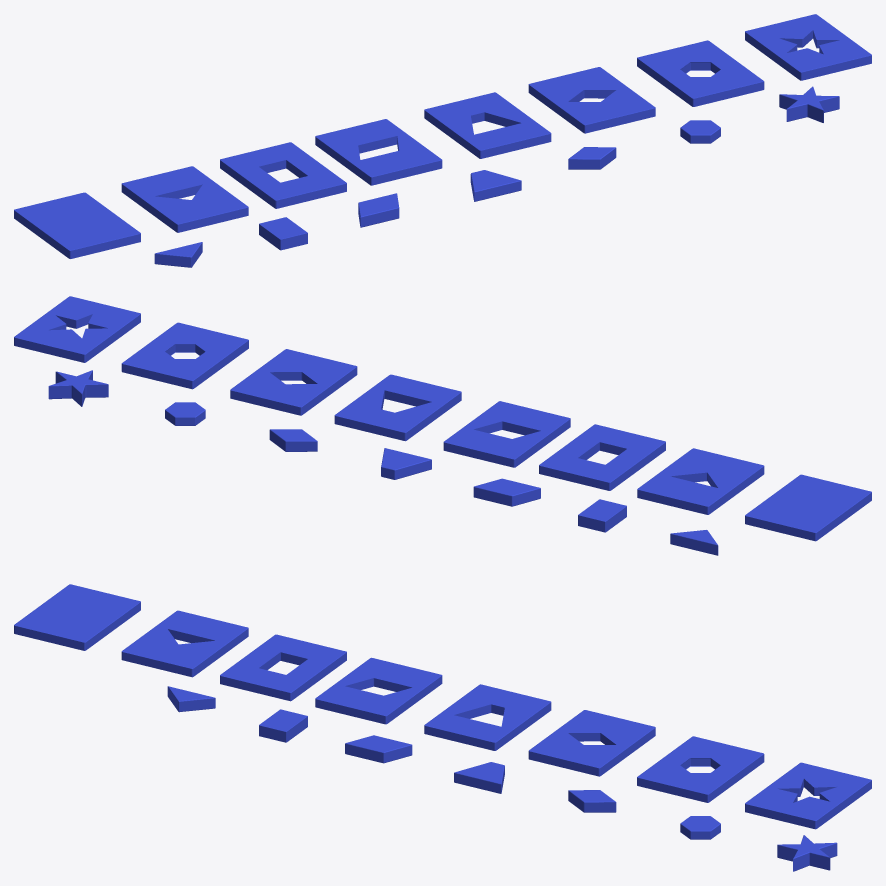
The model's file is Figures (2).fbx.
3 views of the same model, one above another, from view 1: azimuth 30°, elevation 25°; view 2: azimuth 150°, elevation 25°; view 3: azimuth 330°, elevation 25° (orthographic).
Visible parts, largest first — view 1: Wall_Solid, Wall_Triangle, Wall_Rhombus, Wall_Star, Wall_Hexagon, Wall_Trapezoid, Wall_Parallelogram, Wall_Square, star, trapezoid, square, parallelogram (+3 smaller); view 2: Wall_Solid, Wall_Triangle, Wall_Rhombus, Wall_Star, Wall_Parallelogram, Wall_Hexagon, Wall_Trapezoid, Wall_Square, star, parallelogram, square, trapezoid (+3 smaller); view 3: Wall_Solid, Wall_Triangle, Wall_Rhombus, Wall_Star, Wall_Parallelogram, Wall_Hexagon, Wall_Trapezoid, Wall_Square, star, parallelogram, square, trapezoid (+3 smaller).
Boxes of the visible parts, x1,y1,x2,y2 form: Wall_Solid: [14, 192, 140, 258]; Wall_Triangle: [121, 166, 248, 232]; Wall_Rhombus: [528, 67, 655, 133]; Wall_Star: [745, 14, 871, 80]; Wall_Hexagon: [637, 40, 764, 106]; Wall_Trapezoid: [424, 92, 551, 158]; Wall_Parallelogram: [315, 119, 442, 185]; Wall_Square: [220, 142, 346, 208]; star: [779, 86, 839, 122]; trapezoid: [470, 170, 521, 201]; square: [259, 217, 307, 250]; parallelogram: [358, 193, 399, 227]; Wall_Solid: [745, 474, 871, 541]; Wall_Triangle: [637, 448, 764, 514]; Wall_Rhombus: [230, 349, 357, 415]; Wall_Star: [14, 296, 140, 362]; Wall_Parallelogram: [443, 401, 570, 467]; Wall_Hexagon: [121, 322, 248, 389]; Wall_Trapezoid: [334, 374, 461, 441]; Wall_Square: [539, 424, 665, 490]; star: [48, 370, 108, 406]; parallelogram: [473, 478, 540, 506]; square: [578, 499, 626, 532]; trapezoid: [381, 448, 431, 479]; Wall_Solid: [14, 584, 140, 650]; Wall_Triangle: [121, 610, 248, 677]; Wall_Rhombus: [528, 710, 655, 776]; Wall_Star: [745, 762, 871, 829]; Wall_Parallelogram: [315, 657, 442, 724]; Wall_Hexagon: [637, 736, 764, 802]; Wall_Trapezoid: [424, 684, 551, 750]; Wall_Square: [220, 634, 346, 701]; star: [777, 835, 837, 871]; parallelogram: [345, 735, 412, 763]; square: [259, 709, 307, 742]; trapezoid: [454, 762, 504, 793].
Bounding box in the file's own units: 11.12 × 0.9167 × 1.35.
